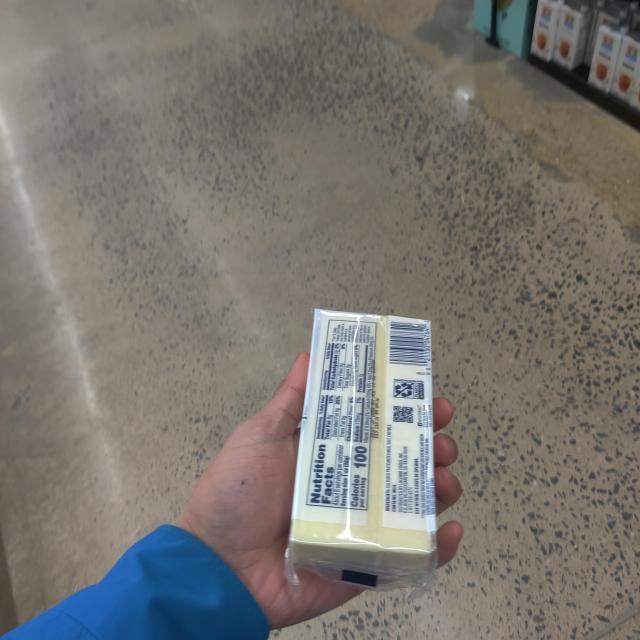Cheese: (284, 307, 438, 592)
